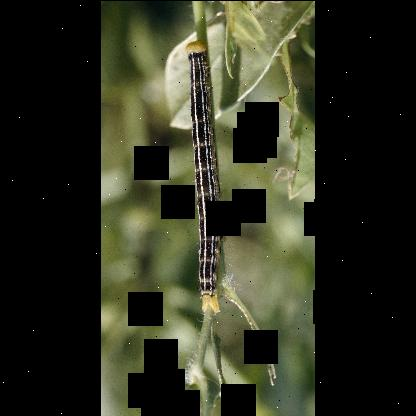oruga: (176, 38, 230, 322)
